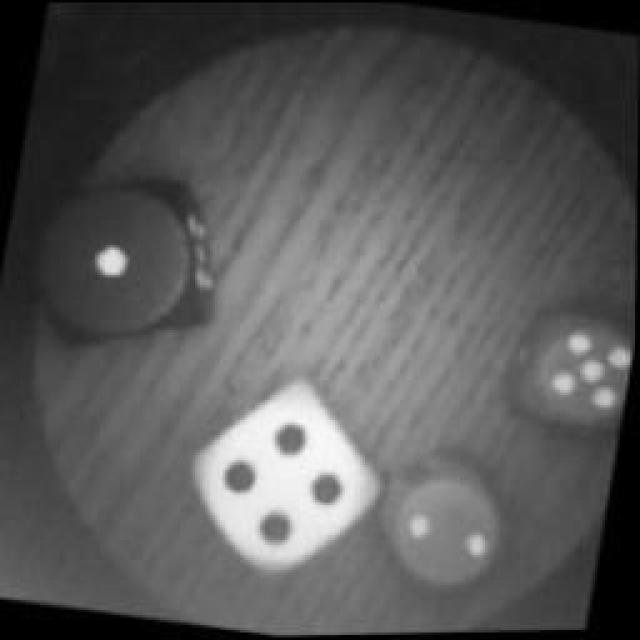dice_1: (13, 157, 228, 365)
dice_2: (366, 451, 524, 601)
dice_4: (178, 372, 392, 578)
dice_5: (506, 294, 636, 448)
